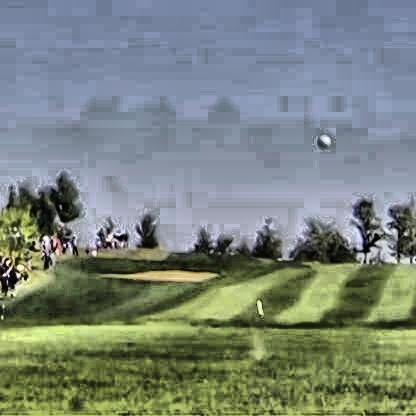golfball: (314, 131, 329, 147)
